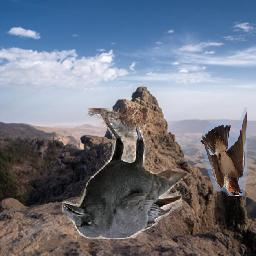Crow: (63, 109, 188, 240)
Swallow: (201, 108, 248, 197)
